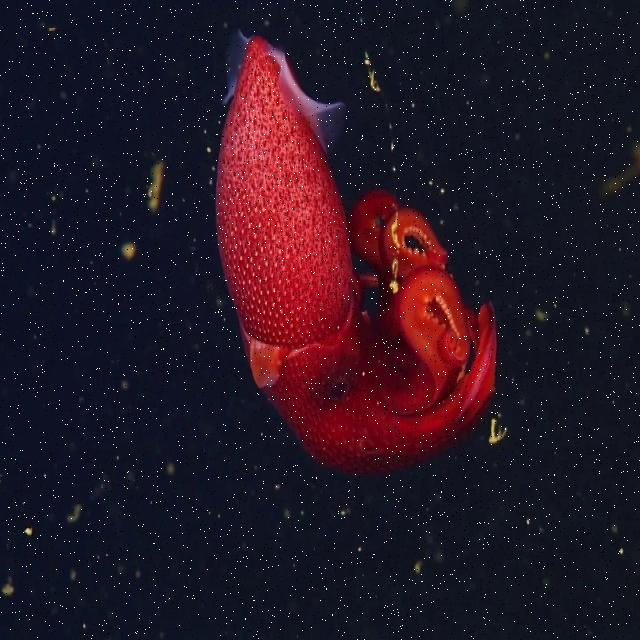reefs: (216, 33, 495, 477)
